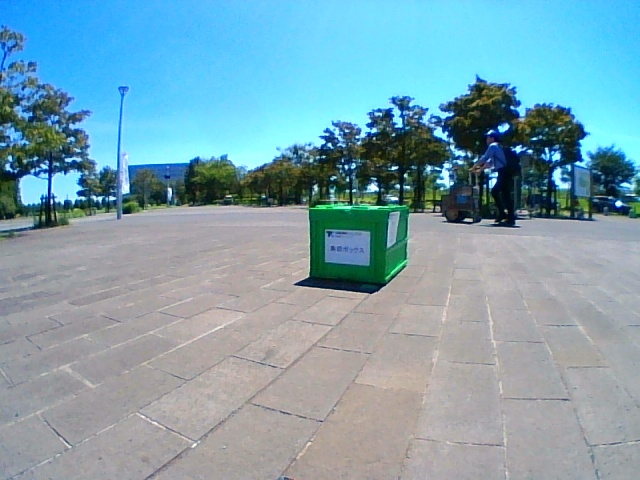green_box: (309, 204, 407, 285)
tag: (390, 213, 395, 247)
